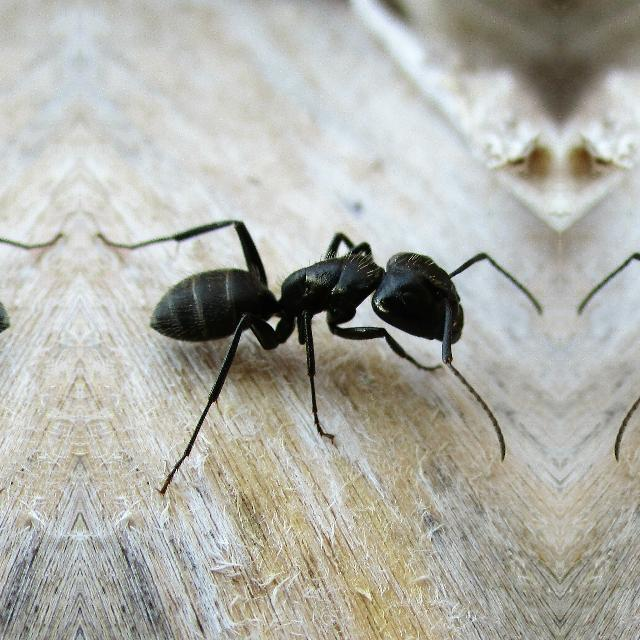Camponotus: (120, 201, 508, 437)
